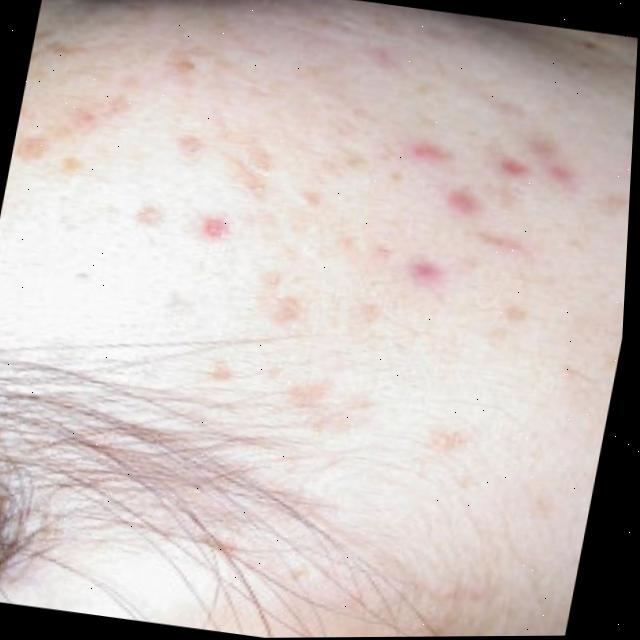Acne: (0, 2, 599, 469)
